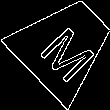M_NE: (31, 11, 99, 79)
